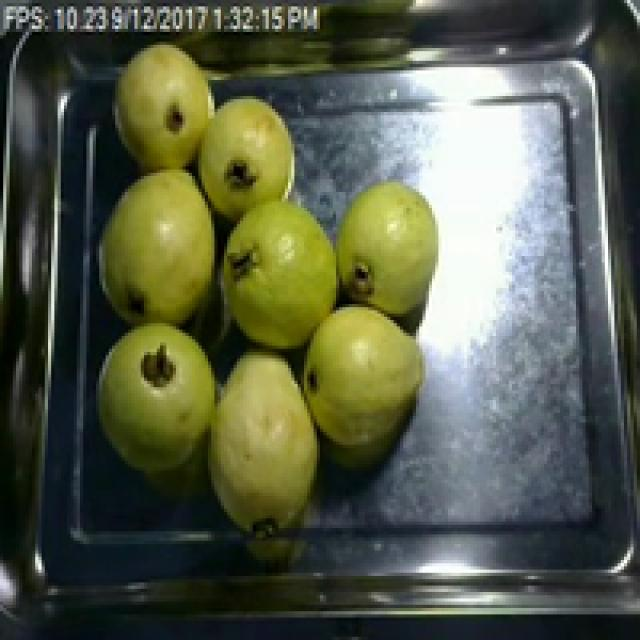Fruit: (189, 332, 333, 538), (218, 179, 358, 371), (288, 294, 438, 473), (84, 301, 230, 477), (86, 157, 215, 355), (176, 84, 310, 246), (323, 170, 451, 330), (106, 32, 227, 182)
